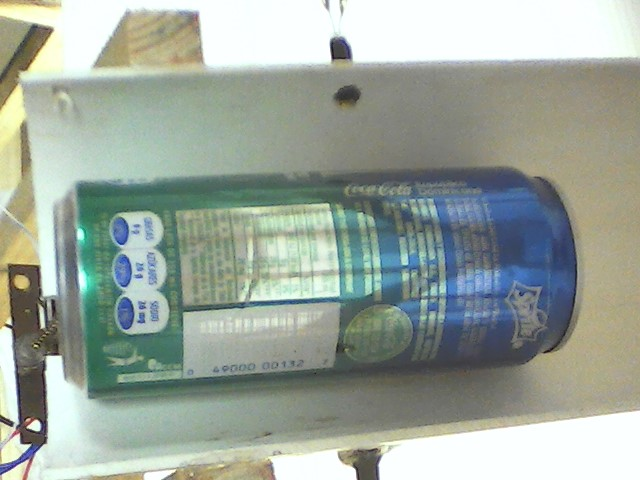lata: (48, 163, 588, 401)
